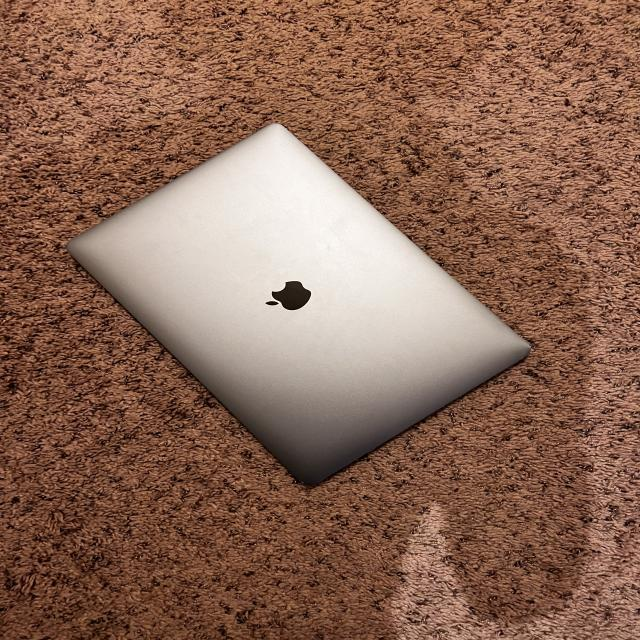laptop: (66, 121, 531, 487)
